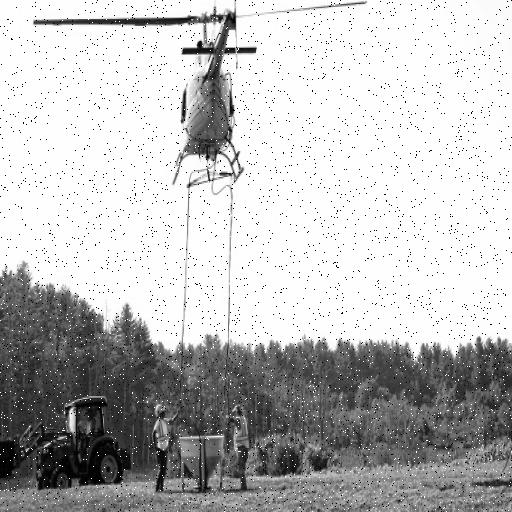helicopter: (32, 1, 371, 186)
